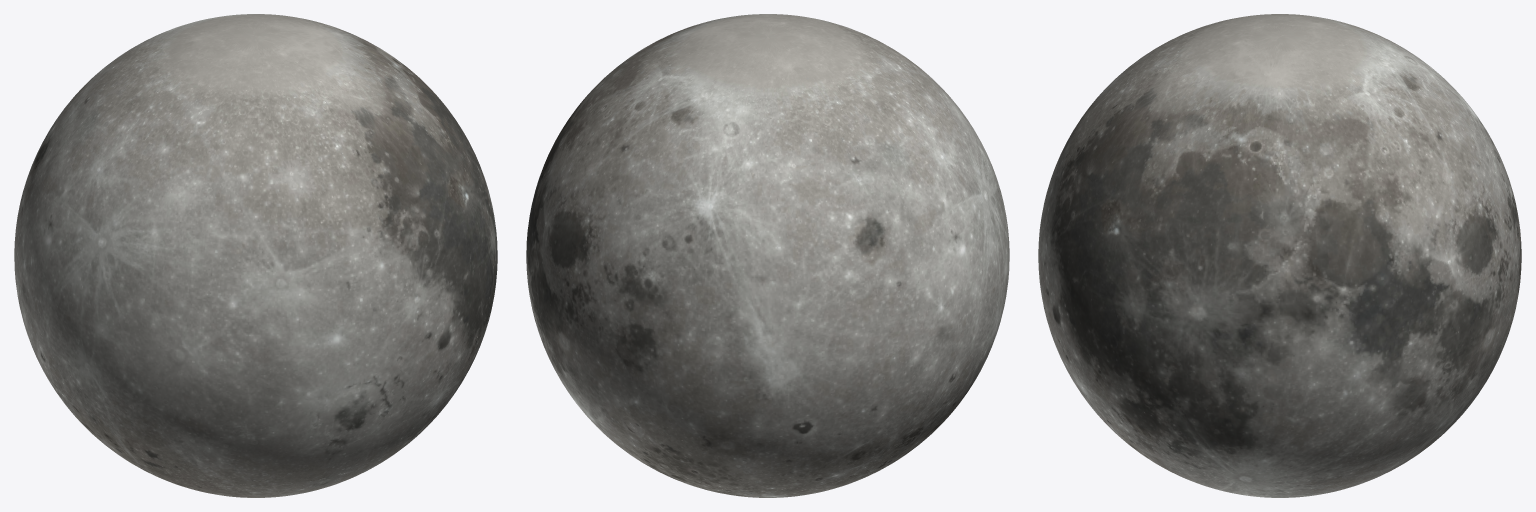
Rendered from Moon.fbx.
3 renders of one model, left to right at view 1: azimuth 30°, elevation 25°; view 2: azimuth 150°, elevation 25°; view 3: azimuth 270°, elevation 25°, orthographic.
Parts seen in each view (by area): view 1: Moon; view 2: Moon; view 3: Moon.
Boxes of the visible parts, x1,y1,x2,y2 form: Moon: (14, 14, 497, 497); Moon: (526, 14, 1009, 497); Moon: (1038, 14, 1521, 497).
Size of the model in its own units: 199 by 200 by 199.
